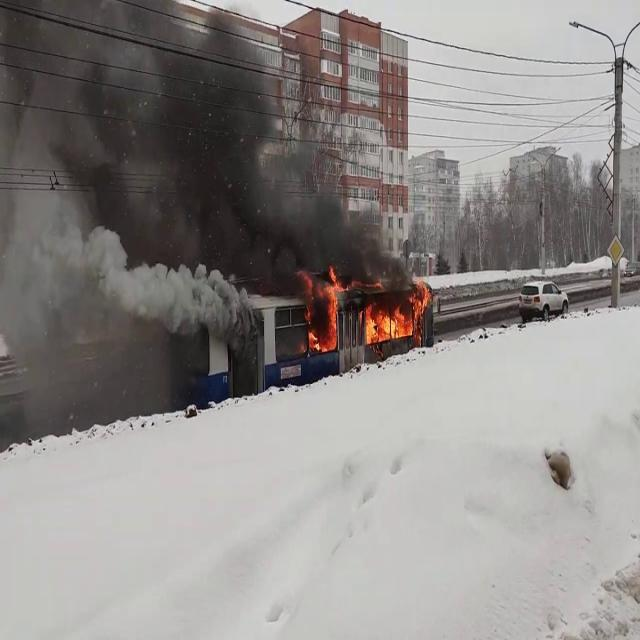Fire: (360, 286, 432, 345), (305, 268, 342, 354)
Smoke: (0, 1, 245, 397), (203, 31, 388, 334)
